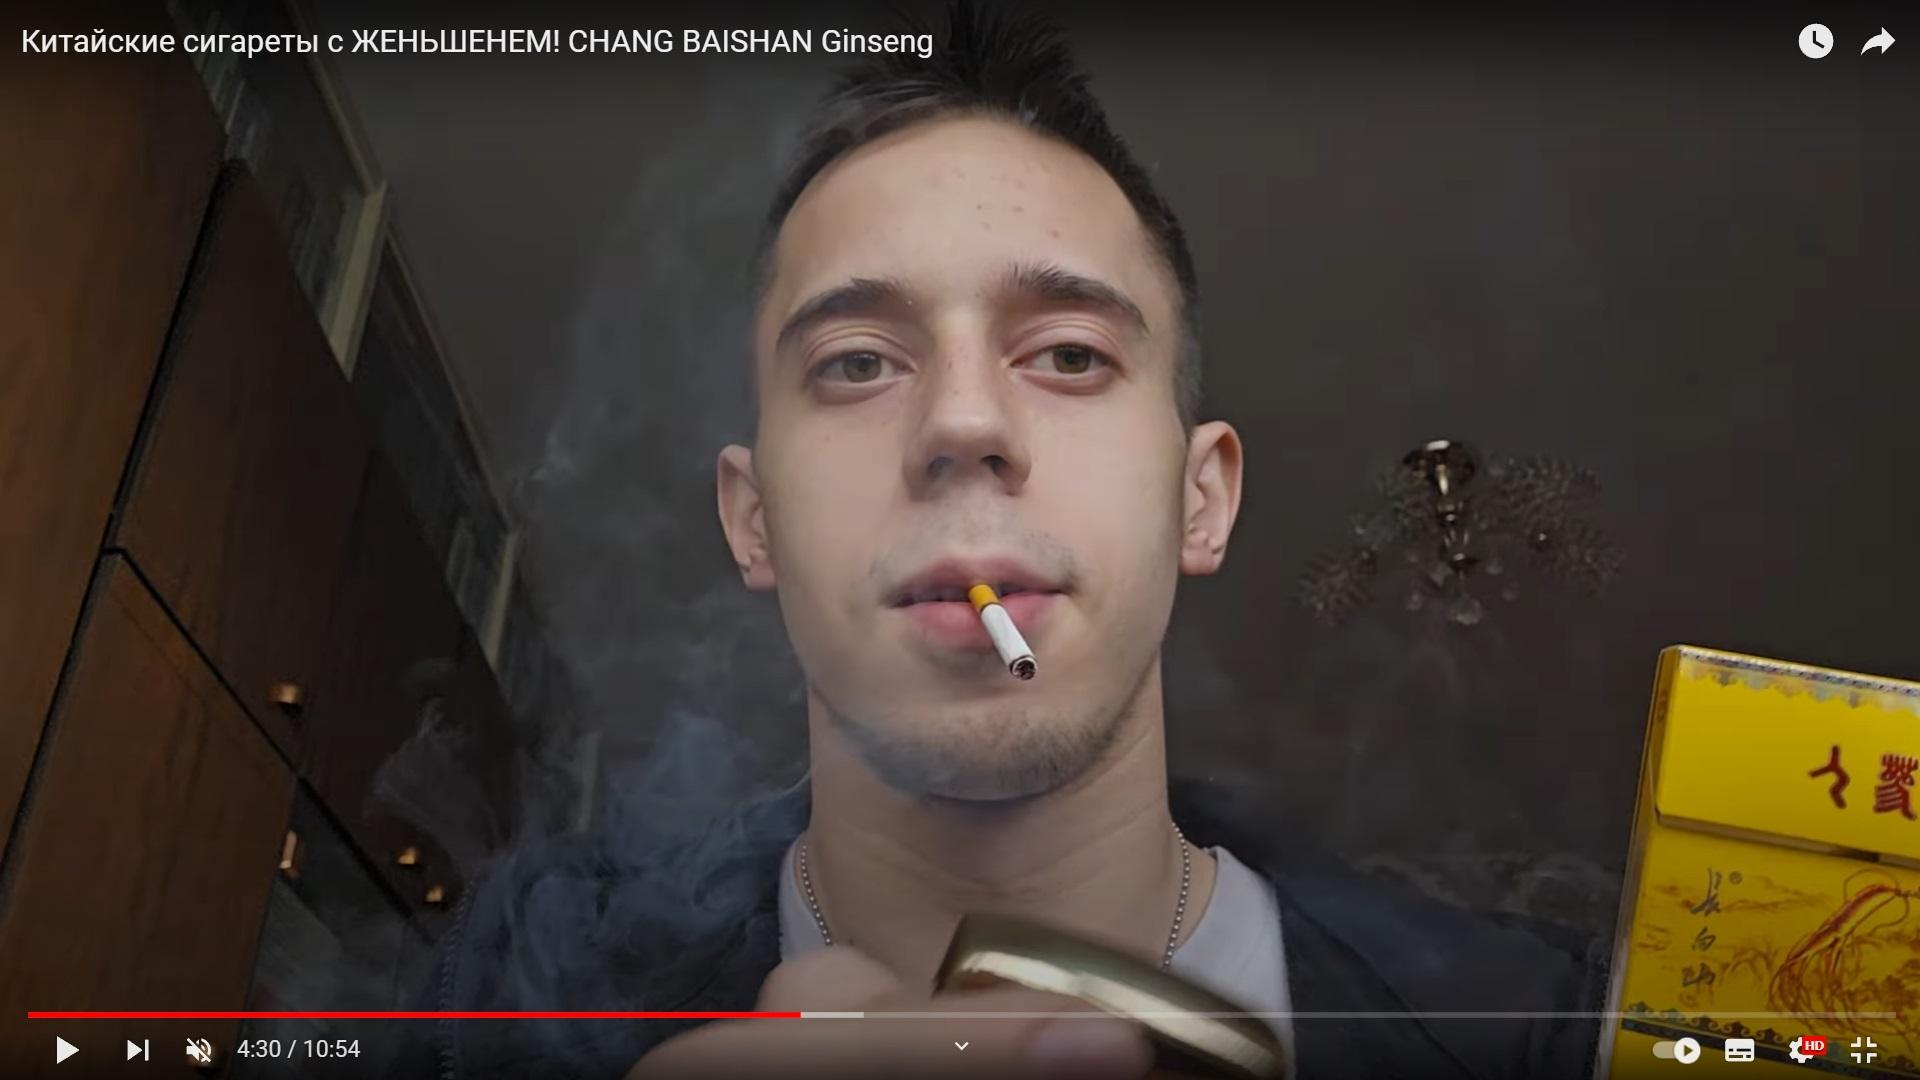cigarette: (968, 585, 1035, 679)
